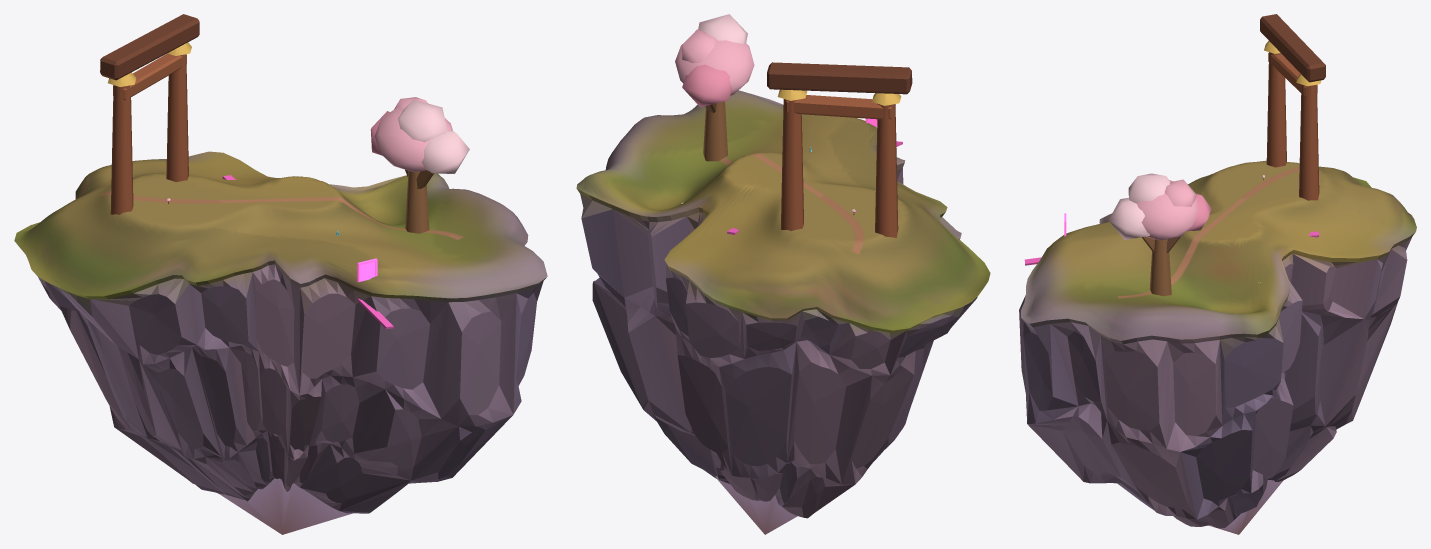
Rendered from party.glb.
3 views of the same model, side by side, from view 1: azimuth 30°, elevation 25°; view 2: azimuth 150°, elevation 25°; view 3: azimuth 270°, elevation 25° (orthographic). The views are drawn at different scales.
Parts seen in each view (by area): view 1: ground, remote_props; view 2: ground, remote_props; view 3: ground, remote_props.
Boxes of the visible parts, x1=… form: ground: x1=14, y1=151, x2=547, y2=534; remote_props: x1=100, y1=14, x2=469, y2=235; ground: x1=576, y1=90, x2=990, y2=534; remote_props: x1=675, y1=14, x2=912, y2=237; ground: x1=1019, y1=160, x2=1416, y2=534; remote_props: x1=1108, y1=14, x2=1325, y2=296.
Size of the model in its own units: 38.02 by 44.06 by 35.21.
